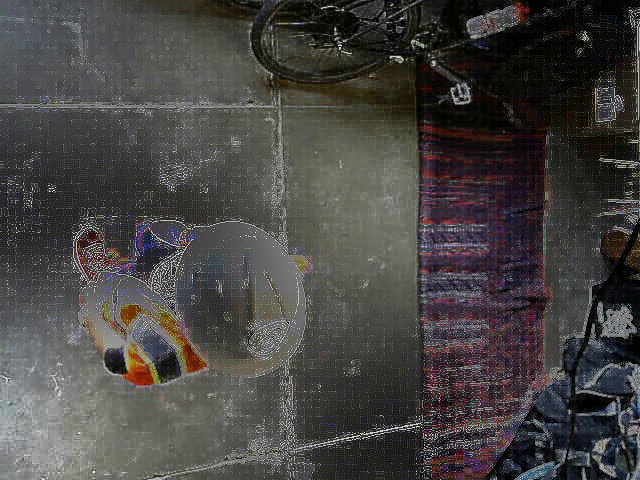three: (248, 317, 291, 355)
